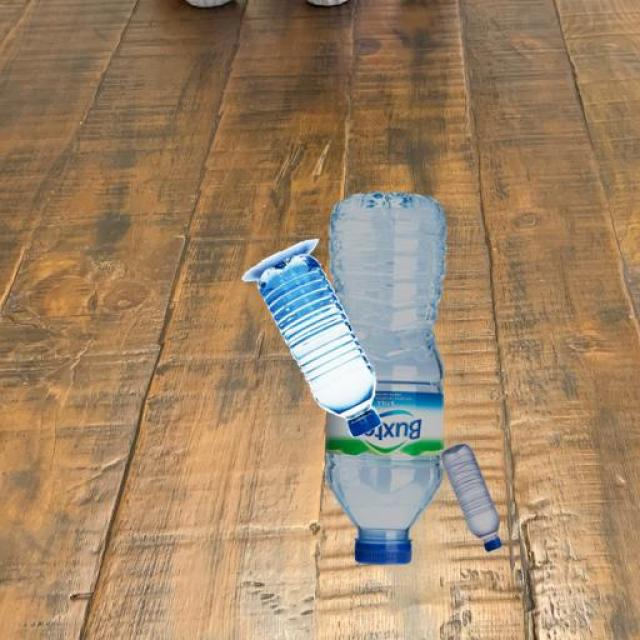litter: (438, 426, 536, 572), (325, 517, 436, 578), (352, 398, 387, 442)
